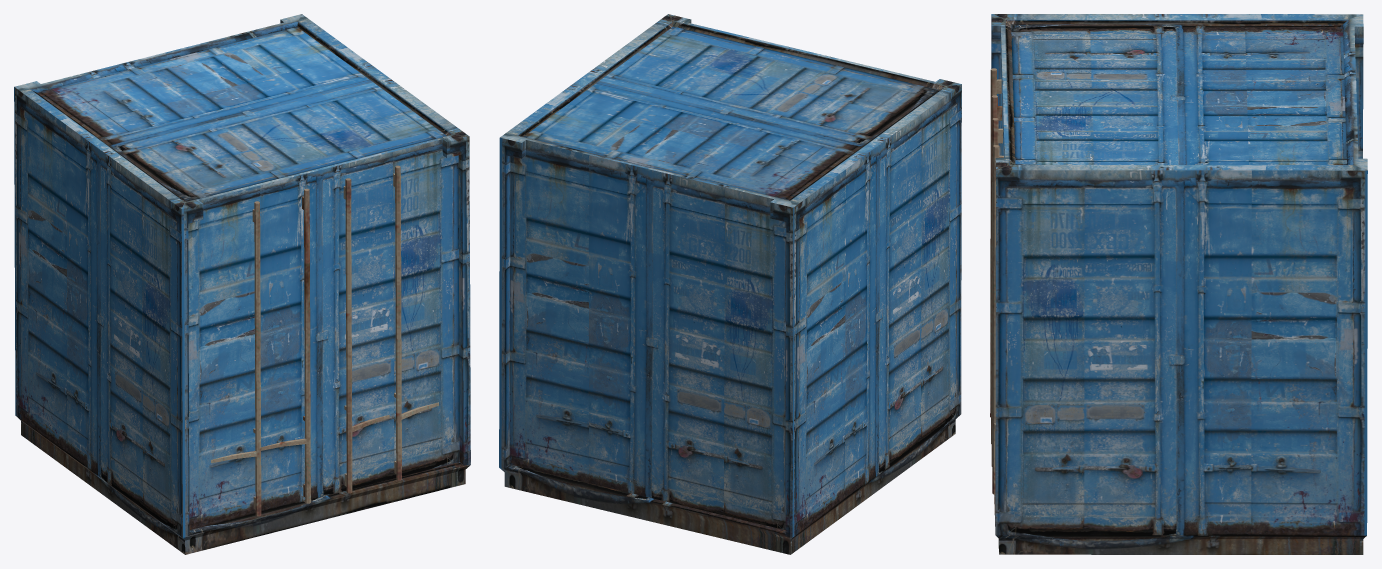
File: Container_Small06.FBX
3 views of the same model, side by side, from view 1: azimuth 30°, elevation 25°; view 2: azimuth 150°, elevation 25°; view 3: azimuth 270°, elevation 25° (orthographic). The views are drawn at different scales.
Parts seen in each view (by area): view 1: Container_Small06; view 2: Container_Small06; view 3: Container_Small06.
Boxes of the visible parts, <box> form: Container_Small06: <box>14,14,470,554</box>; Container_Small06: <box>499,14,961,554</box>; Container_Small06: <box>990,14,1367,554</box>.
Size of the model in its own units: 98.64 by 113 by 99.96.
